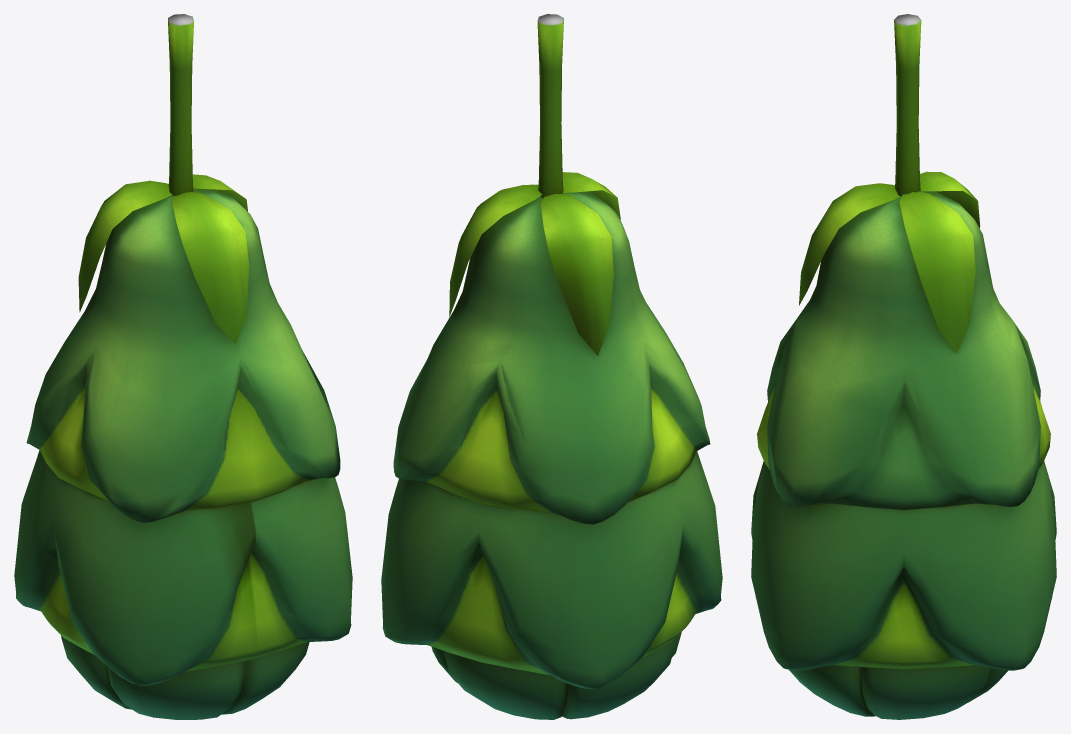
File: Slime_Fruit_dream.glb
The picture shows the model from 3 angles, left to right: view 1: azimuth 30°, elevation 25°; view 2: azimuth 150°, elevation 25°; view 3: azimuth 270°, elevation 25°; orthographic projection.
Visible parts, largest first — view 1: Cube.003; view 2: Cube.003; view 3: Cube.003.
Part boxes in pixels (x1,y1,x2,y2): Cube.003: [14, 14, 352, 719]; Cube.003: [381, 14, 722, 719]; Cube.003: [751, 14, 1056, 719].
Size of the model in its own units: 1.01 by 2.43 by 0.9809.
Materials: 1 (1 with a texture image).
